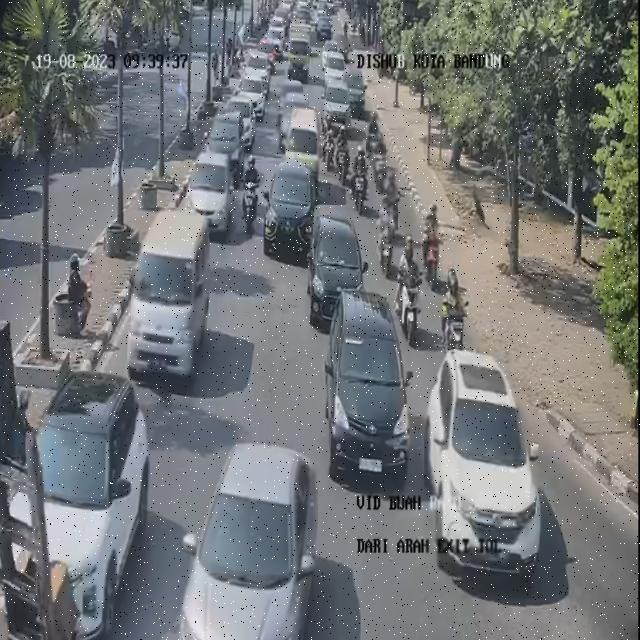cars: (28, 367, 150, 634), (177, 440, 318, 637), (424, 344, 534, 567), (326, 283, 410, 477), (132, 208, 208, 379), (308, 205, 366, 328), (265, 156, 314, 253), (192, 146, 235, 232), (288, 110, 321, 178), (276, 92, 308, 152), (212, 106, 244, 165), (326, 69, 352, 135), (230, 90, 258, 142), (320, 44, 342, 87), (289, 46, 312, 85), (276, 79, 302, 106)
motorcycle: (394, 237, 422, 339), (439, 268, 469, 355), (419, 199, 442, 281), (376, 199, 398, 275), (244, 154, 264, 226), (376, 168, 398, 229), (352, 146, 370, 217), (370, 136, 386, 184), (366, 111, 382, 155), (338, 126, 353, 166)
truck: (288, 16, 312, 54)
